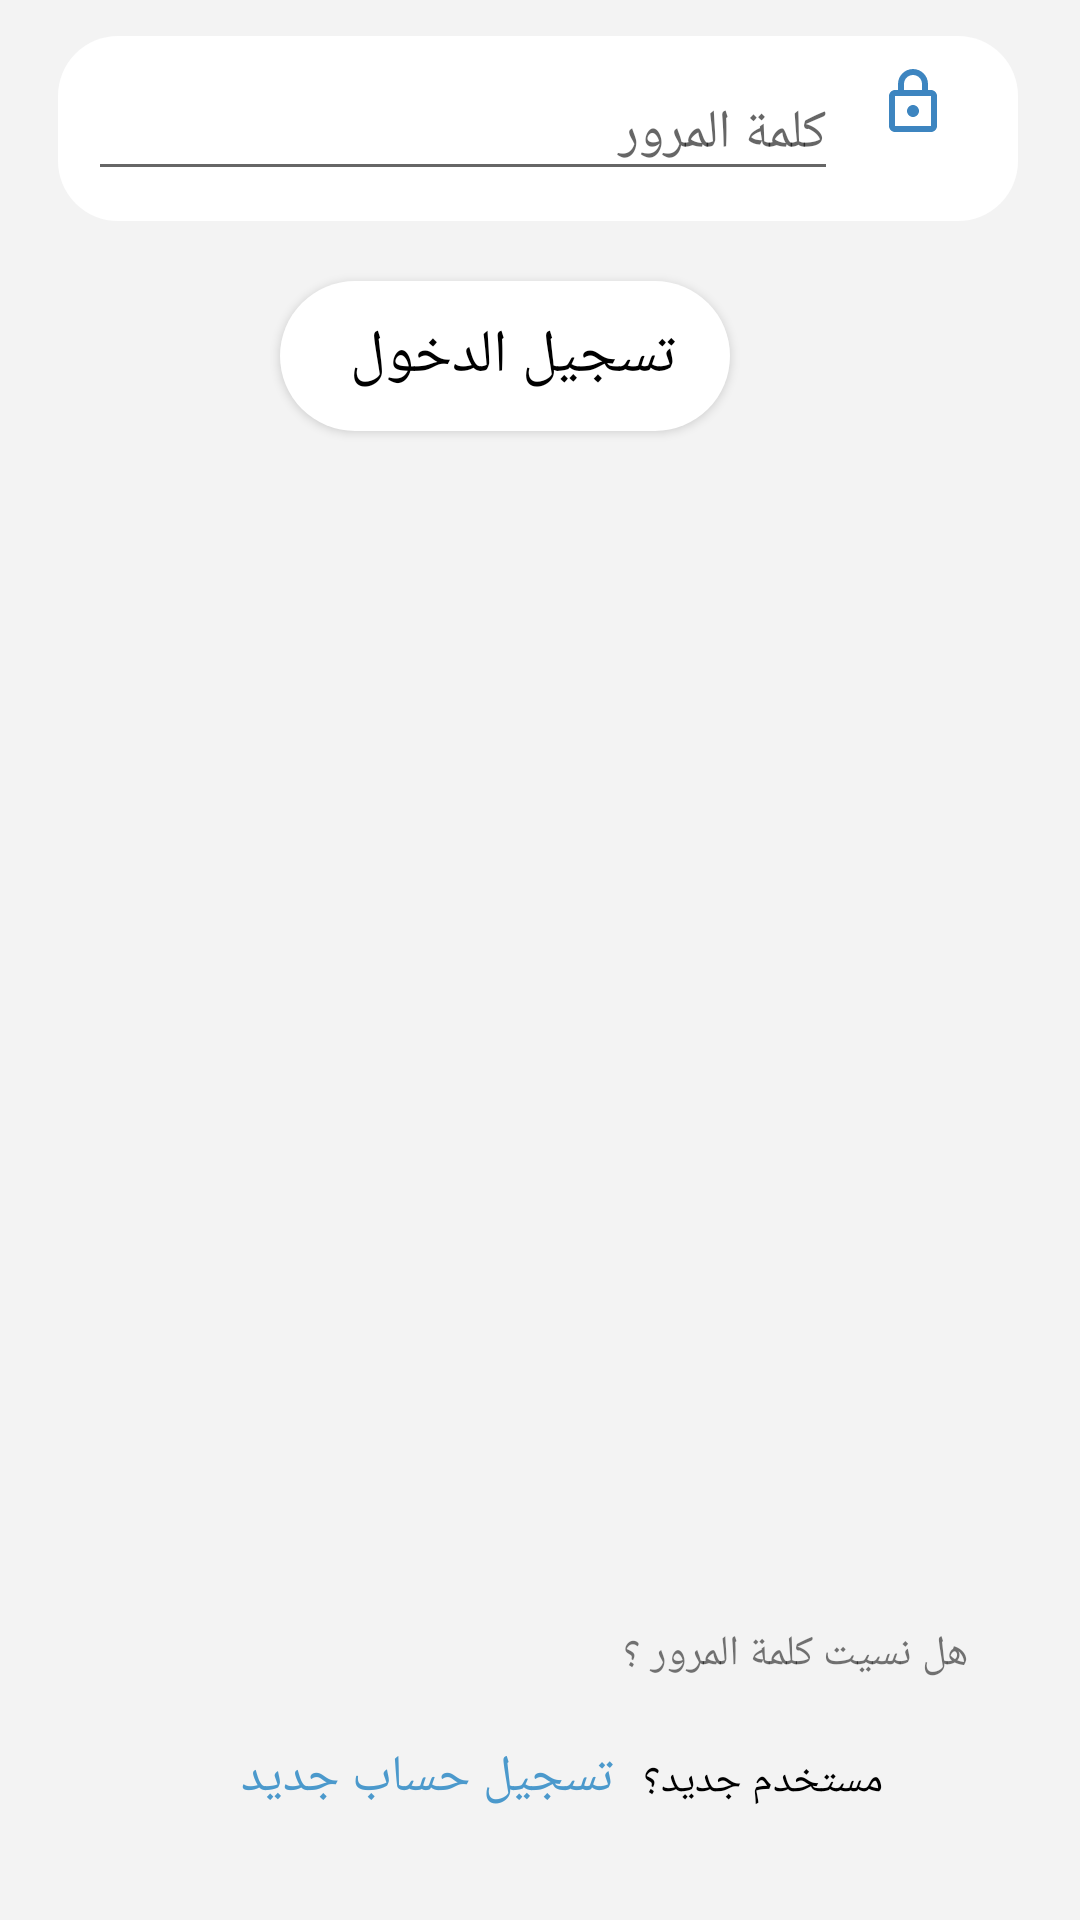

Locate icon controls on the screen. Image size 1080 × 1920, boxes as [x1,y1,x2,y2].
password: [889,69,937,132]
